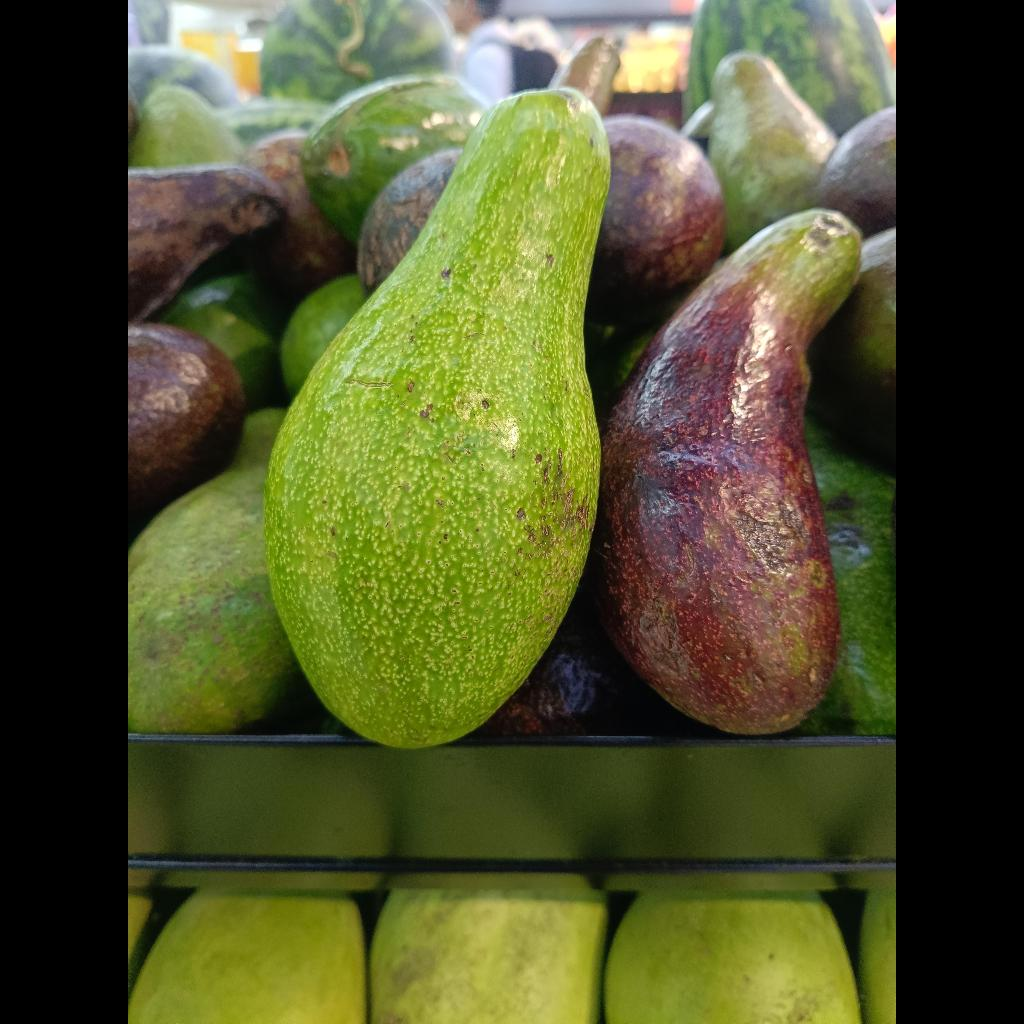fruto_sano: (265, 88, 610, 748)
